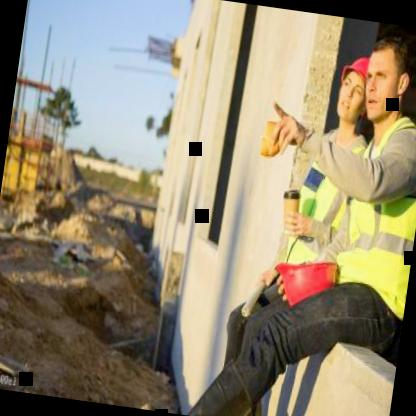head: (358, 28, 416, 134)
helmet: (332, 52, 374, 123)
